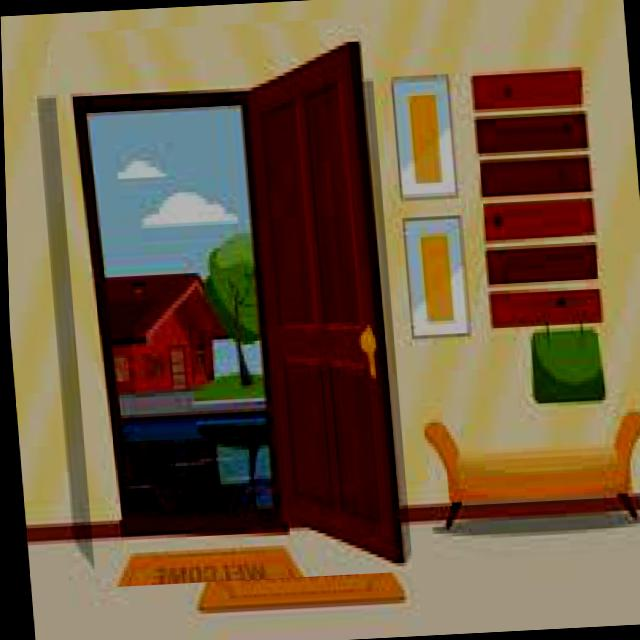open: (50, 17, 411, 589)
